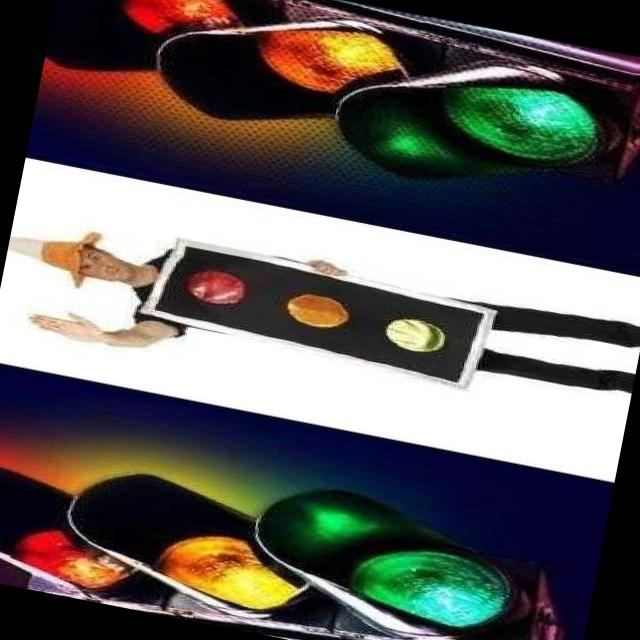green-lights: (392, 39, 630, 193), (302, 507, 524, 640)
red-lights: (0, 454, 170, 610), (51, 0, 278, 99)
yellow-lights: (209, 0, 434, 145), (131, 492, 325, 634)
